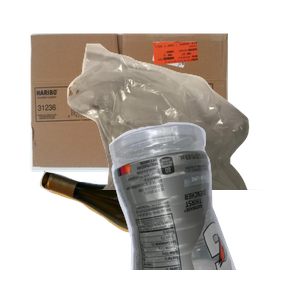cardboard: (28, 31, 249, 195)
glass: (37, 168, 242, 300)
plastic: (106, 120, 300, 300)
trash: (65, 41, 300, 221)
